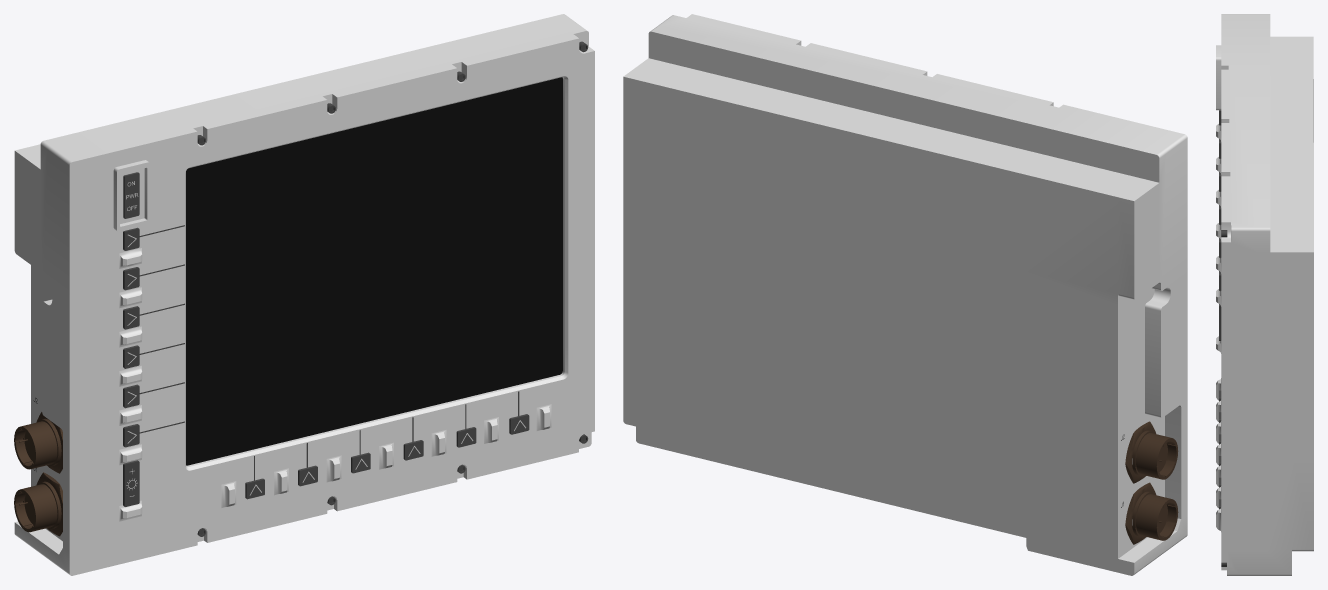
Rendered from Masah.fbx.
3 renders of one model, left to right at view 1: azimuth 30°, elevation 25°; view 2: azimuth 150°, elevation 25°; view 3: azimuth 270°, elevation 25°, orthographic. The views are drawn at different scales.
Parts seen in each view (by area): view 1: masah; view 2: masah; view 3: masah.
Boxes of the visible parts, x1=… form: masah: x1=14, y1=14, x2=594, y2=575; masah: x1=623, y1=14, x2=1187, y2=575; masah: x1=1216, y1=14, x2=1313, y2=575.
Size of the model in its own units: 0.3579 by 0.2635 by 0.0671.
1 material, 1 textured.
